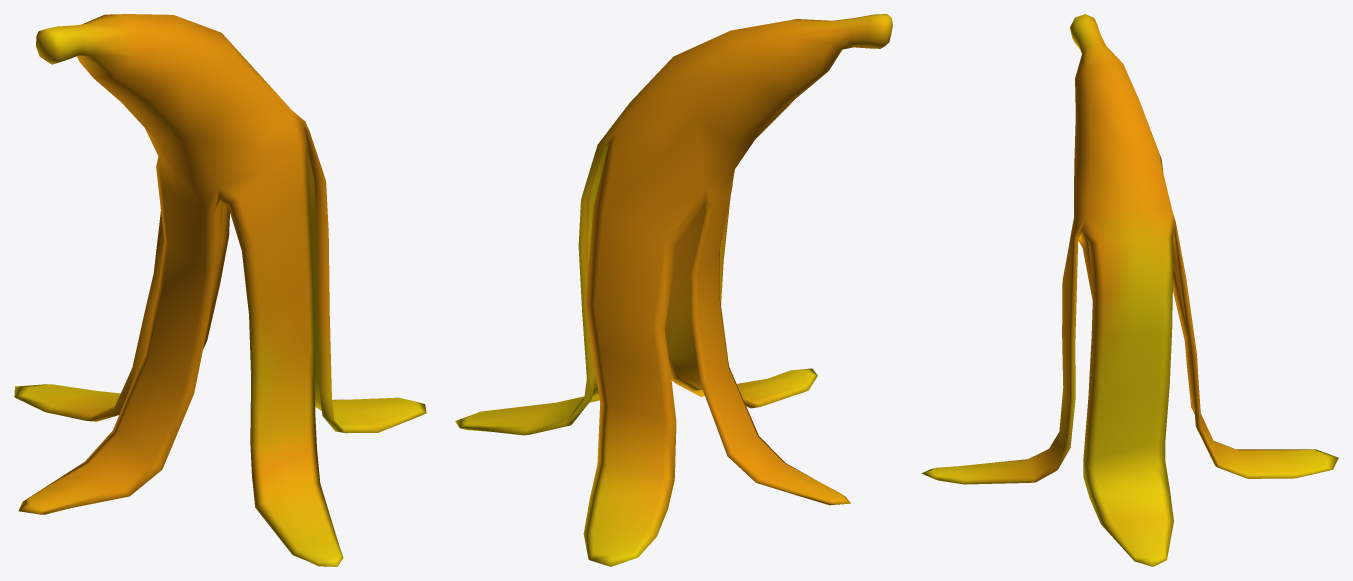
File: bananana.fbx
3 views of the same model, side by side, from view 1: azimuth 30°, elevation 25°; view 2: azimuth 150°, elevation 25°; view 3: azimuth 270°, elevation 25° (orthographic). The views are drawn at different scales.
Parts seen in each view (by area): view 1: Plane; view 2: Plane; view 3: Plane.
Boxes of the visible parts, x1=… form: Plane: x1=14, y1=14, x2=426, y2=566; Plane: x1=455, y1=14, x2=892, y2=566; Plane: x1=921, y1=14, x2=1338, y2=566.
Size of the model in its own units: 43.61 by 49.94 by 47.65.
